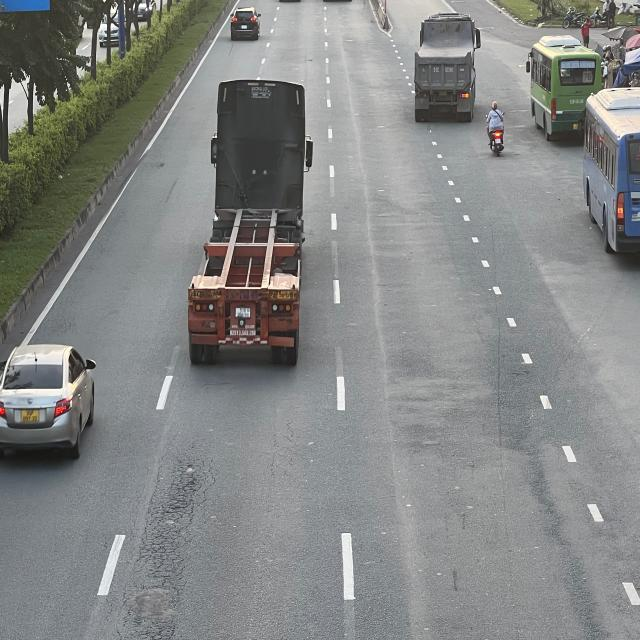car: (1, 341, 100, 458), (228, 6, 259, 41)
coach: (580, 87, 637, 256), (530, 38, 602, 141)
container: (189, 82, 313, 371), (412, 13, 481, 124)
